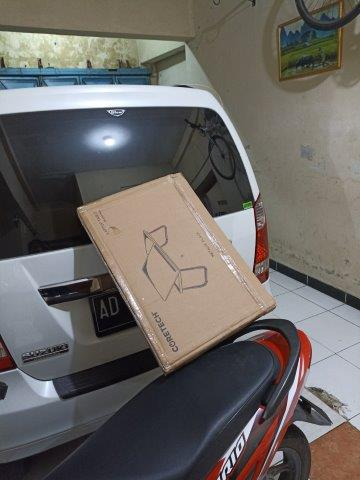kardus: (78, 174, 276, 375)
